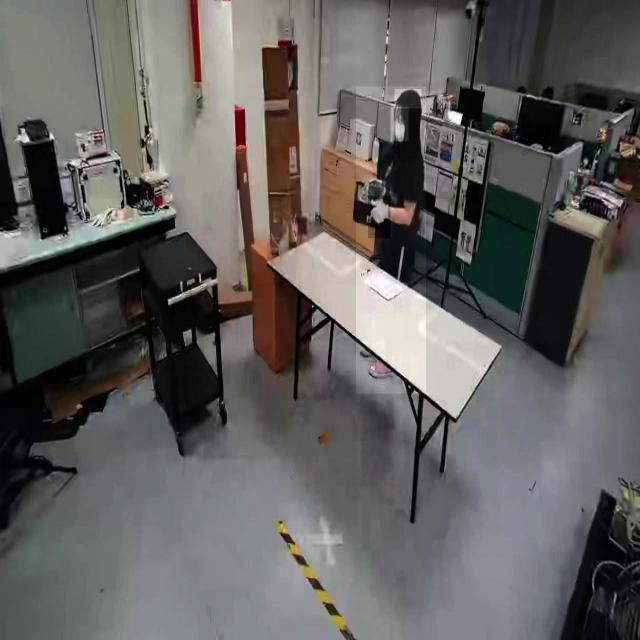gloves: (368, 196, 390, 238)
